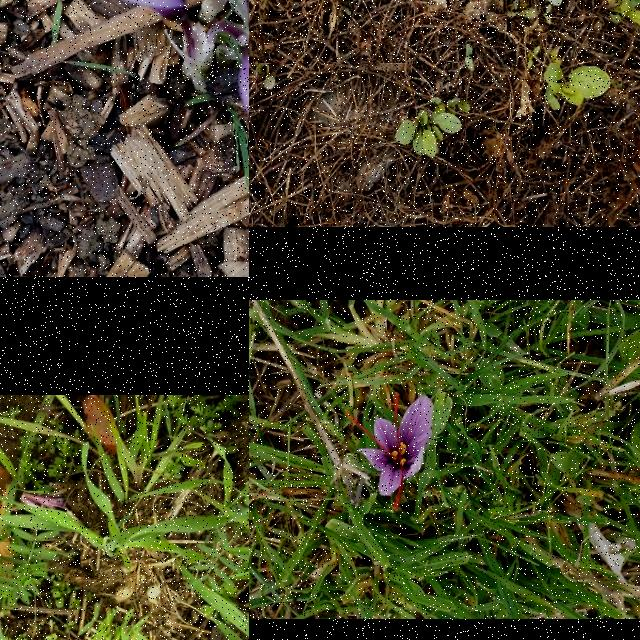flower: (346, 394, 434, 512), (85, 0, 186, 22)
